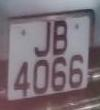0: (31, 57, 51, 98)
4: (12, 58, 33, 101)
6: (50, 56, 69, 95), (67, 54, 85, 92)
B: (51, 16, 70, 59)
J: (30, 17, 53, 61)
